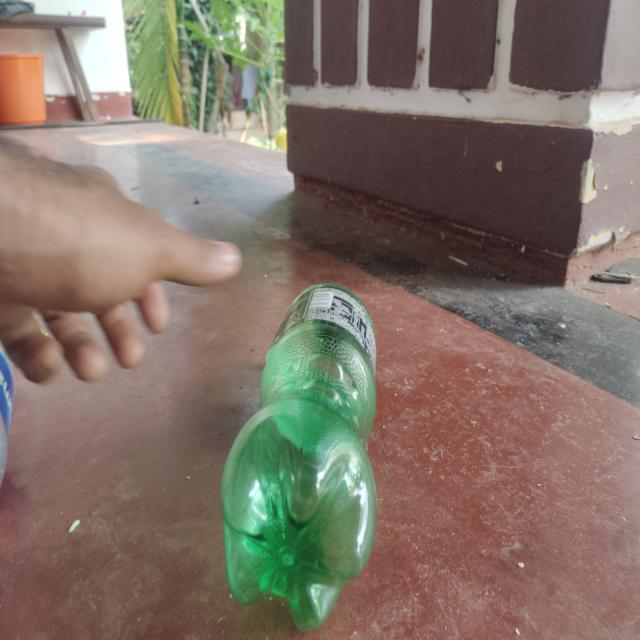plastic: (218, 278, 380, 634)
